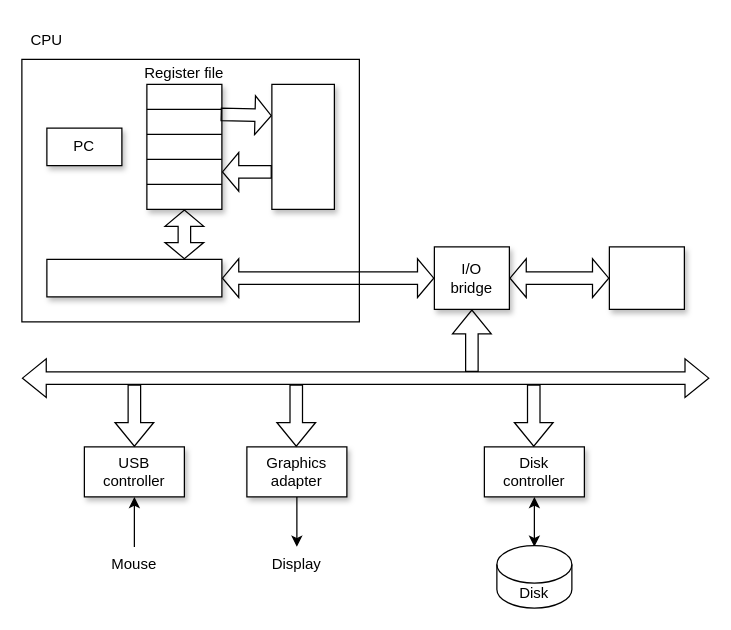
The diagram is 731 pixels wide and 630 high, and some of its shapes have lost their labels. Each missing label, with the centre of its shape:
"ALU" goes at (x=304, y=148).
"Bus interface" goes at (x=135, y=279).
"Main memory" goes at (x=647, y=279).
